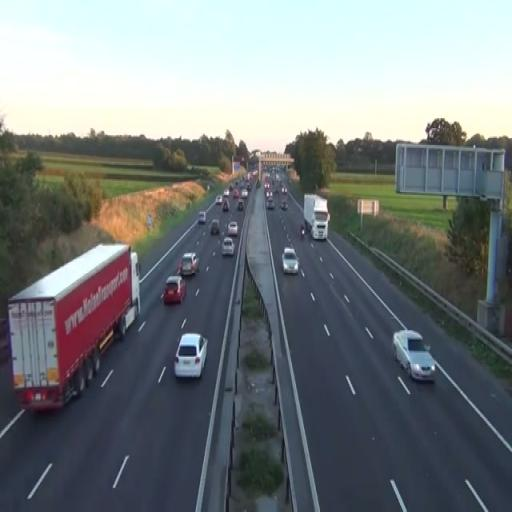Car: (392, 330, 436, 384), (173, 333, 208, 380), (162, 276, 186, 304), (176, 252, 200, 276), (282, 248, 298, 274), (222, 237, 234, 257), (228, 220, 238, 237), (210, 220, 220, 235), (198, 212, 206, 225)
Truck: (7, 242, 141, 414), (303, 194, 330, 240)
